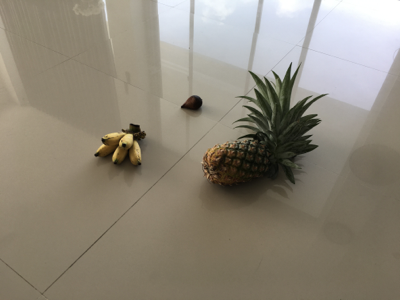banana: (95, 123, 147, 172)
pineapple: (201, 61, 330, 188)
snake fruit: (181, 95, 204, 112)
